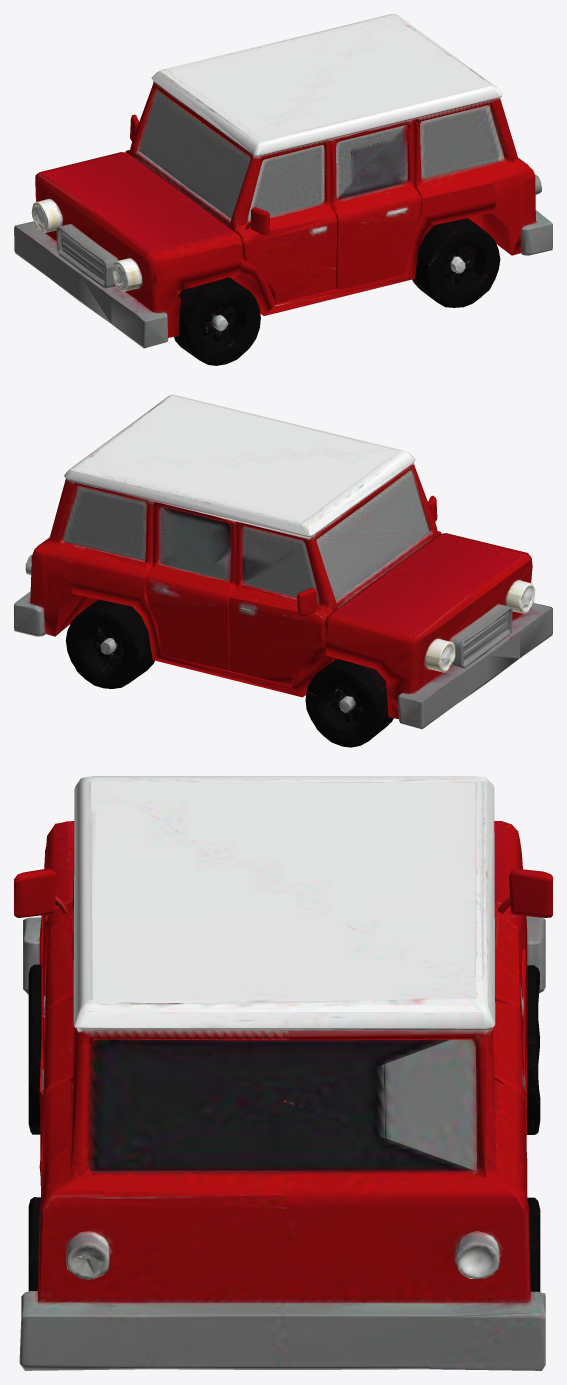
File: wagon-red.glb
3 views of the same model, one above another, from view 1: azimuth 30°, elevation 25°; view 2: azimuth 150°, elevation 25°; view 3: azimuth 270°, elevation 25° (orthographic). The views are drawn at different scales.
Size of the model in its own units: 1 by 0.4697 by 0.5742.
Materials: 1 (1 with a texture image).
